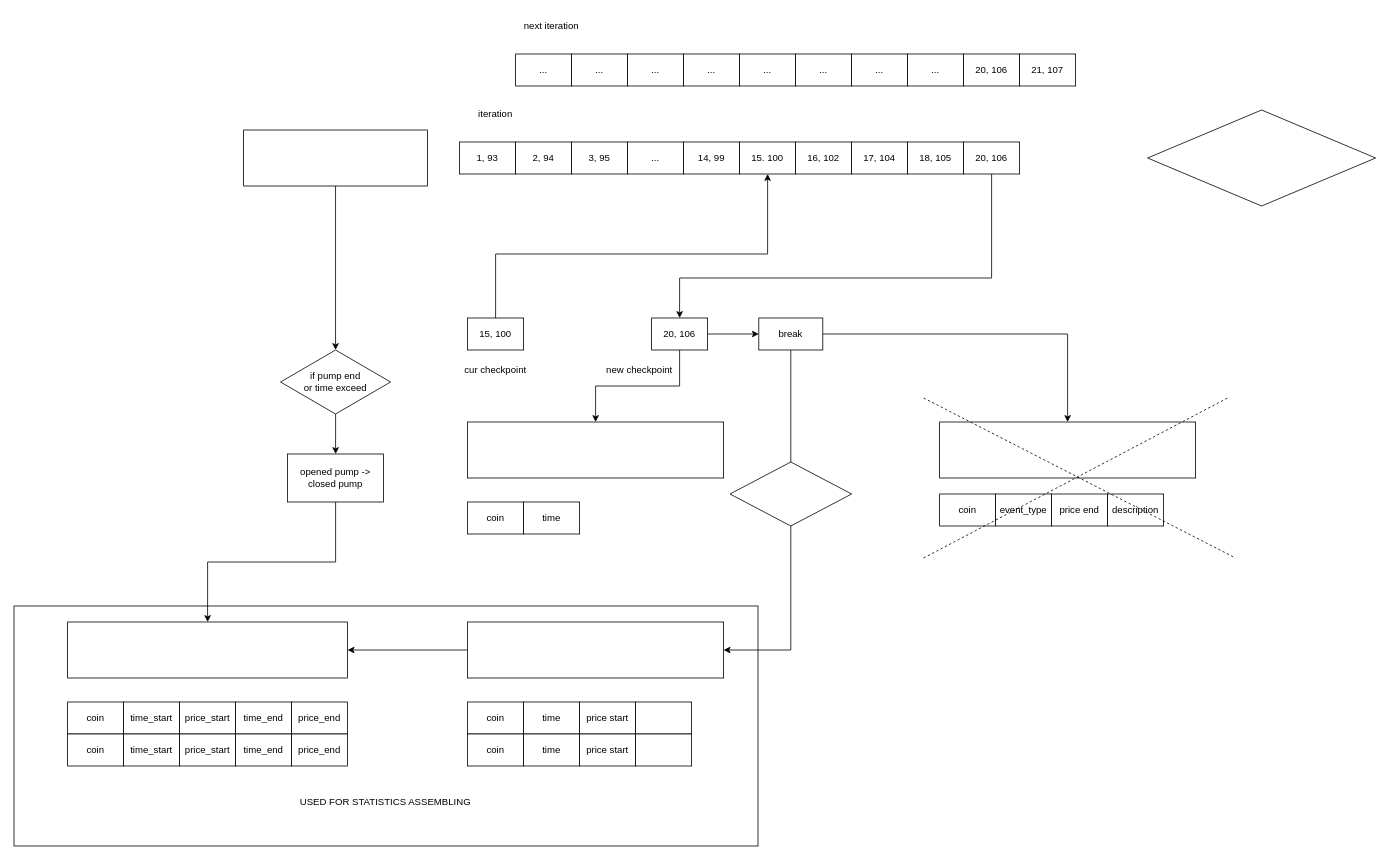
This 1390x860 diagram has some shape labels left out. Each missing label, with the centre of its shape:
(check if pump start and compare with last value): point 335,157
checkpoints: point 595,449
closed PUMPS: point 207,649
DETECT GAP OR RELOAD HISTORY FOR DATA VALIDATION ON FAILURE: point 1261,157
events: point 1067,449
if event_type: pump_start: point 790,493
opened PUMPS: point 595,649
